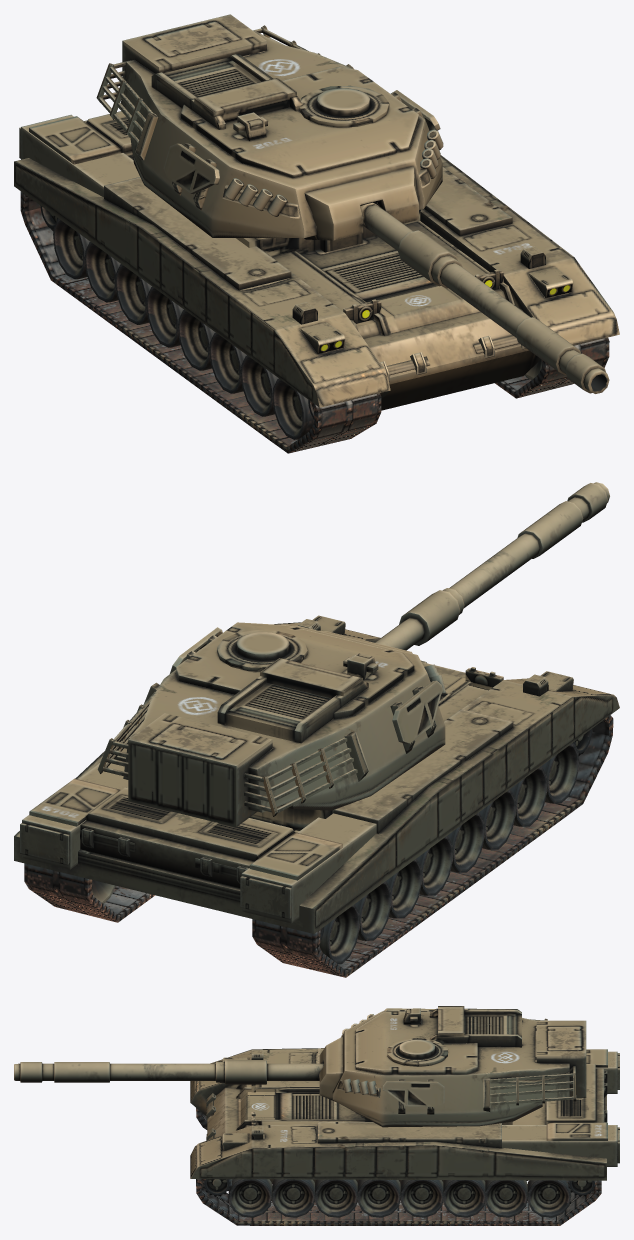
Rendered from ground_tank_day.DAE.
3 renders of one model, top to bottom at view 1: azimuth 30°, elevation 25°; view 2: azimuth 150°, elevation 25°; view 3: azimuth 270°, elevation 25°, orthographic. The views are drawn at different scales.
Visible parts, largest first — view 1: Body1, Turret1, TrackR1, Cannon1, Track_L1, IdlerR_01, IdlerR_02, IdlerR_05, IdlerR_03, IdlerR_04, IdlerR_08, IdlerR_06 (+1 smaller); view 2: Body1, Turret1, TrackR1, Cannon1, Track_L1, IdlerR_08, IdlerR_01, IdlerR_02, IdlerR_04, IdlerR_03, IdlerR_07, IdlerR_05 (+1 smaller); view 3: Body1, Turret1, Cannon1, Track_L1, IdlerL_01, IdlerL_02, IdlerL_03, IdlerL_04, IdlerL_05, IdlerL_08, IdlerL_06, IdlerL_07 (+2 smaller).
Boxes of the visible parts, bbox=[...] form: Body1: bbox=[14, 111, 619, 410]; Turret1: bbox=[96, 14, 443, 240]; TrackR1: bbox=[20, 191, 381, 453]; Cannon1: bbox=[360, 202, 609, 393]; Track_L1: bbox=[495, 337, 609, 398]; IdlerR_01: bbox=[272, 378, 313, 439]; IdlerR_02: bbox=[240, 355, 278, 416]; IdlerR_05: bbox=[146, 286, 183, 347]; IdlerR_03: bbox=[209, 332, 246, 393]; IdlerR_04: bbox=[178, 309, 215, 370]; IdlerR_08: bbox=[53, 218, 90, 279]; IdlerR_06: bbox=[115, 264, 151, 324]; Body1: bbox=[14, 615, 619, 933]; Turret1: bbox=[97, 622, 446, 826]; TrackR1: bbox=[252, 715, 613, 977]; Cannon1: bbox=[375, 482, 609, 650]; Track_L1: bbox=[24, 863, 154, 922]; IdlerR_08: bbox=[320, 904, 359, 963]; IdlerR_01: bbox=[541, 743, 578, 803]; IdlerR_02: bbox=[510, 766, 547, 826]; IdlerR_04: bbox=[447, 812, 484, 872]; IdlerR_03: bbox=[479, 789, 515, 849]; IdlerR_07: bbox=[355, 881, 391, 940]; IdlerR_05: bbox=[416, 835, 452, 895]; Body1: bbox=[190, 1048, 619, 1183]; Turret1: bbox=[319, 1006, 586, 1127]; Cannon1: bbox=[14, 1060, 323, 1084]; Track_L1: bbox=[196, 1179, 601, 1225]; IdlerL_01: bbox=[228, 1179, 272, 1217]; IdlerL_02: bbox=[271, 1179, 315, 1217]; IdlerL_03: bbox=[314, 1179, 357, 1217]; IdlerL_04: bbox=[357, 1179, 400, 1217]; IdlerL_05: bbox=[400, 1180, 443, 1217]; IdlerL_08: bbox=[527, 1180, 571, 1217]; IdlerL_06: bbox=[443, 1180, 485, 1217]; IdlerL_07: bbox=[485, 1180, 527, 1217].
Bounding box in the file's own units: 16.63 × 11.59 × 42.67.
